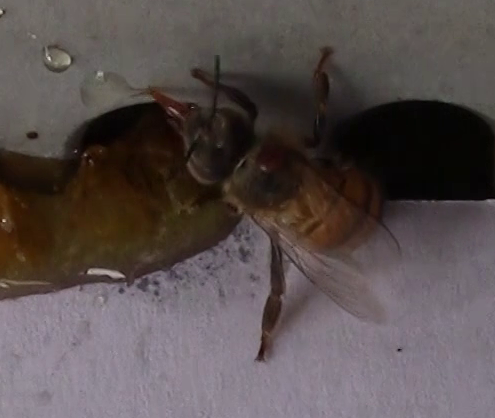Varroa destructor: (252, 144, 290, 173)
